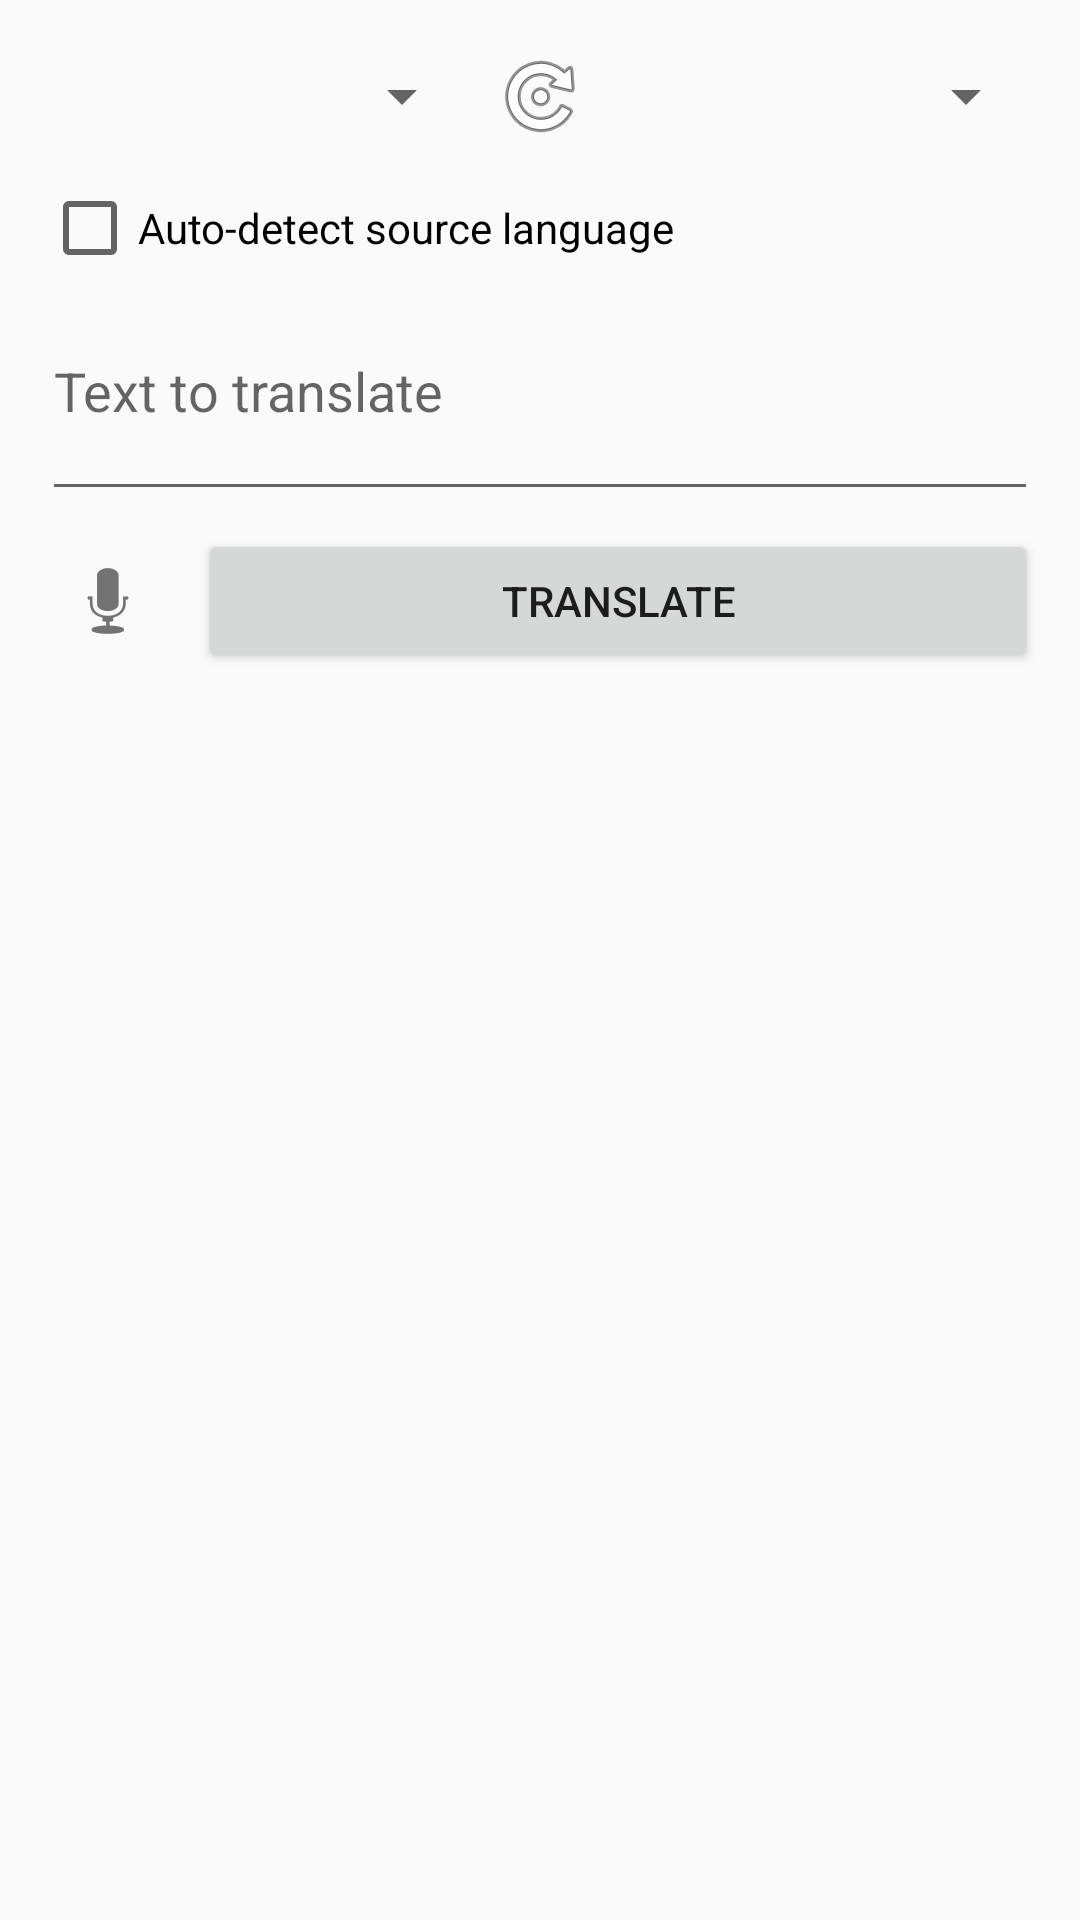

Icons on this 1080px×1920px Android screen, each with its box as bbox(x1, y1, x2, y2):
Voice input: bbox(87, 568, 129, 634)
